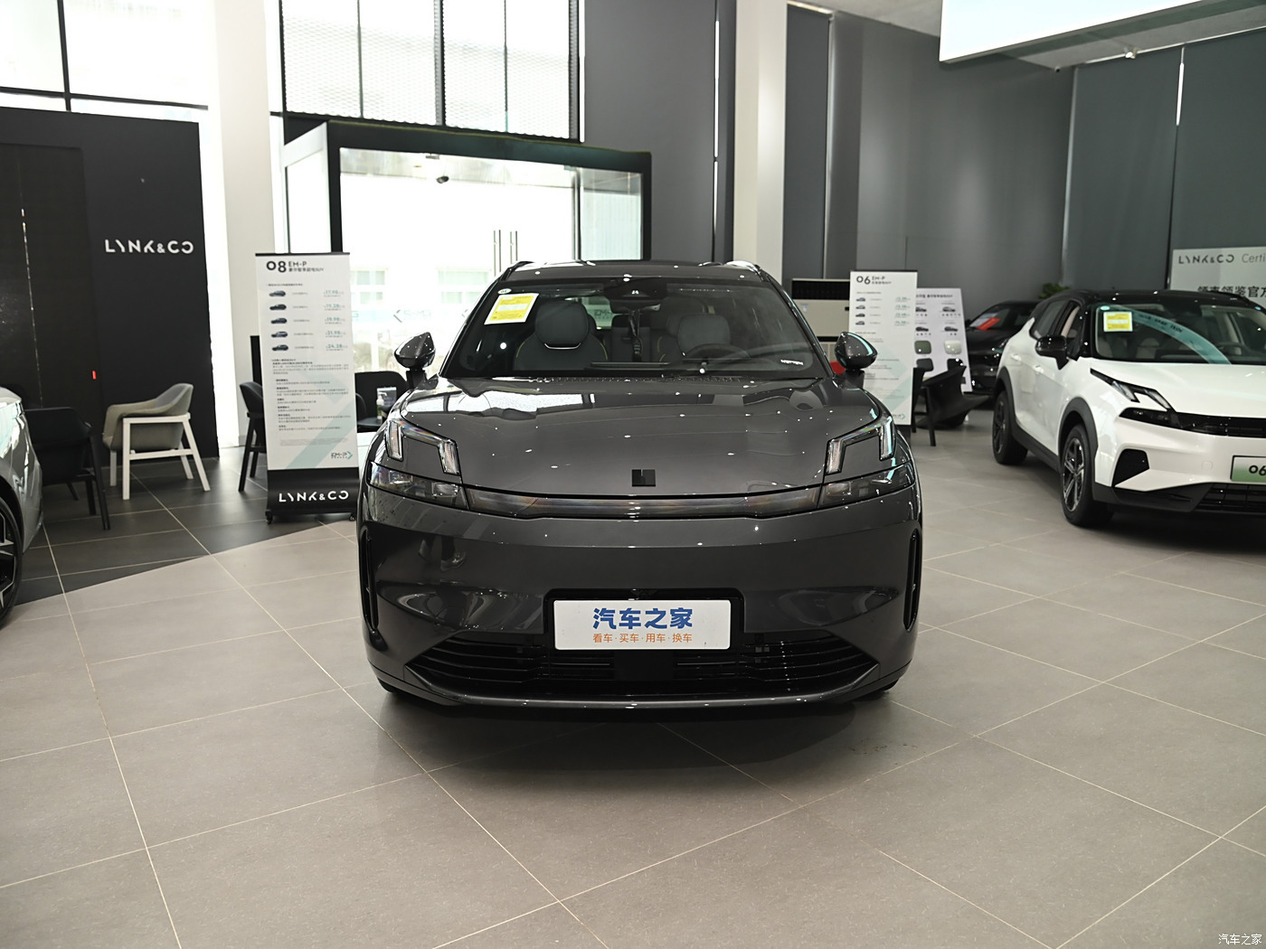LINK&CO: (631, 469, 655, 486)
